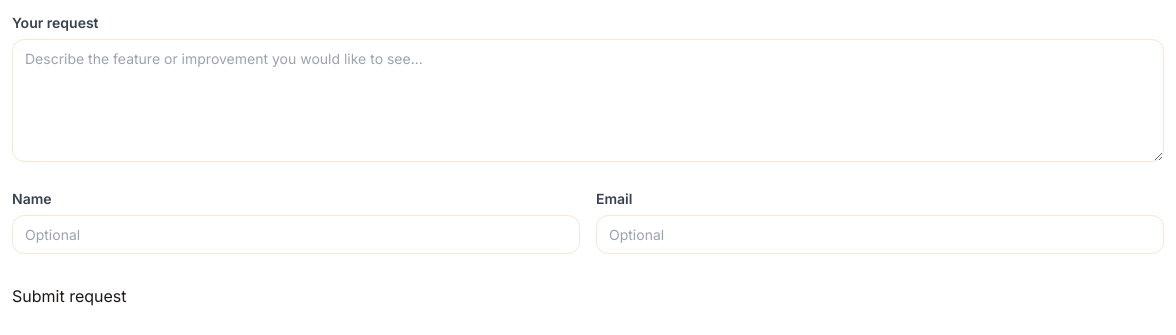
FeatureRequestForm › shows success message after successful fetch
Type "Please add dark mode to the dashboard" into the text box labelled "Your request". click: (588, 100)
box: [12,39,1164,162]
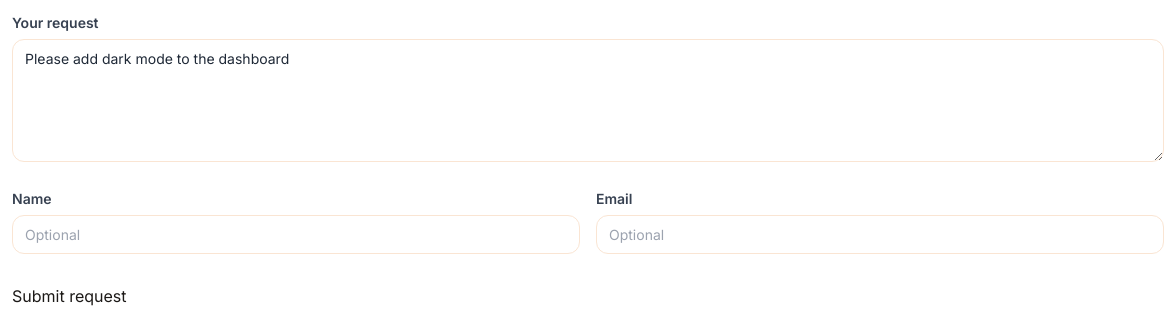
Click the button "Submit request". click: click(69, 296)
box: [12,274,126,318]
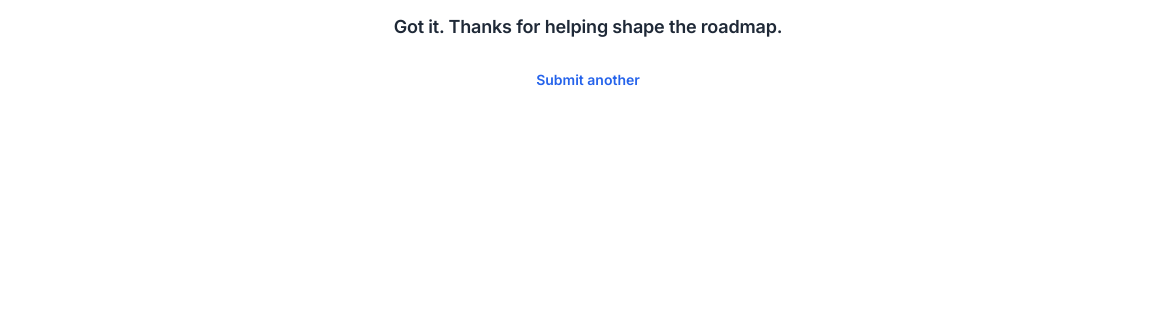
Result: the text "Got it. Thanks for helping shape the roadmap." is shown at [394,16,782,37]
